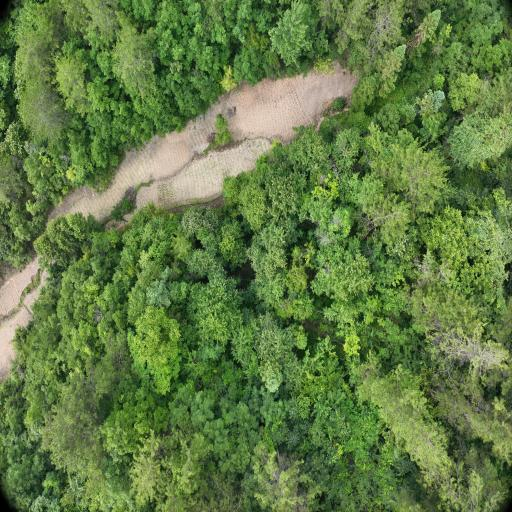dead-tree: (452, 344, 498, 364)
